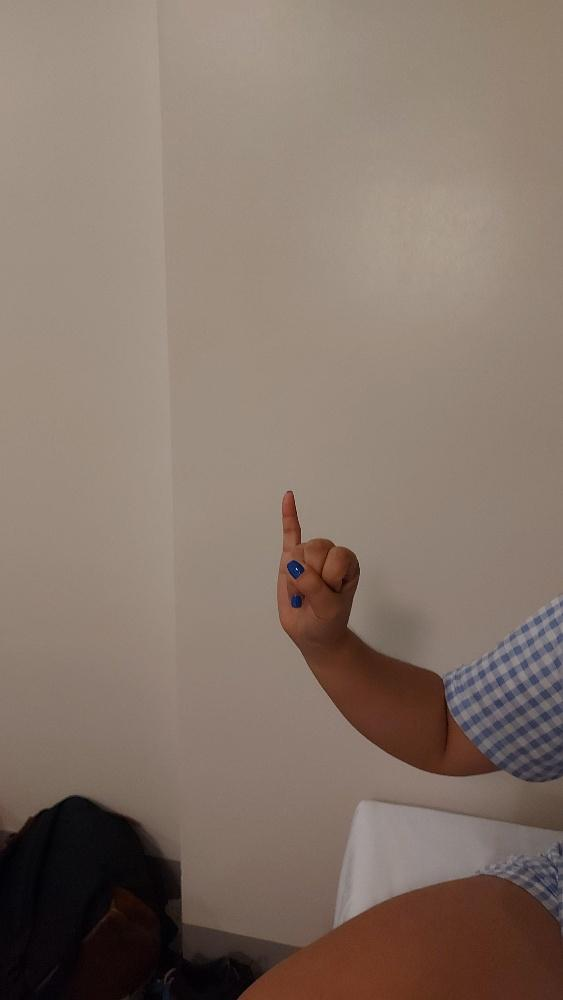i: (274, 486, 360, 640)
